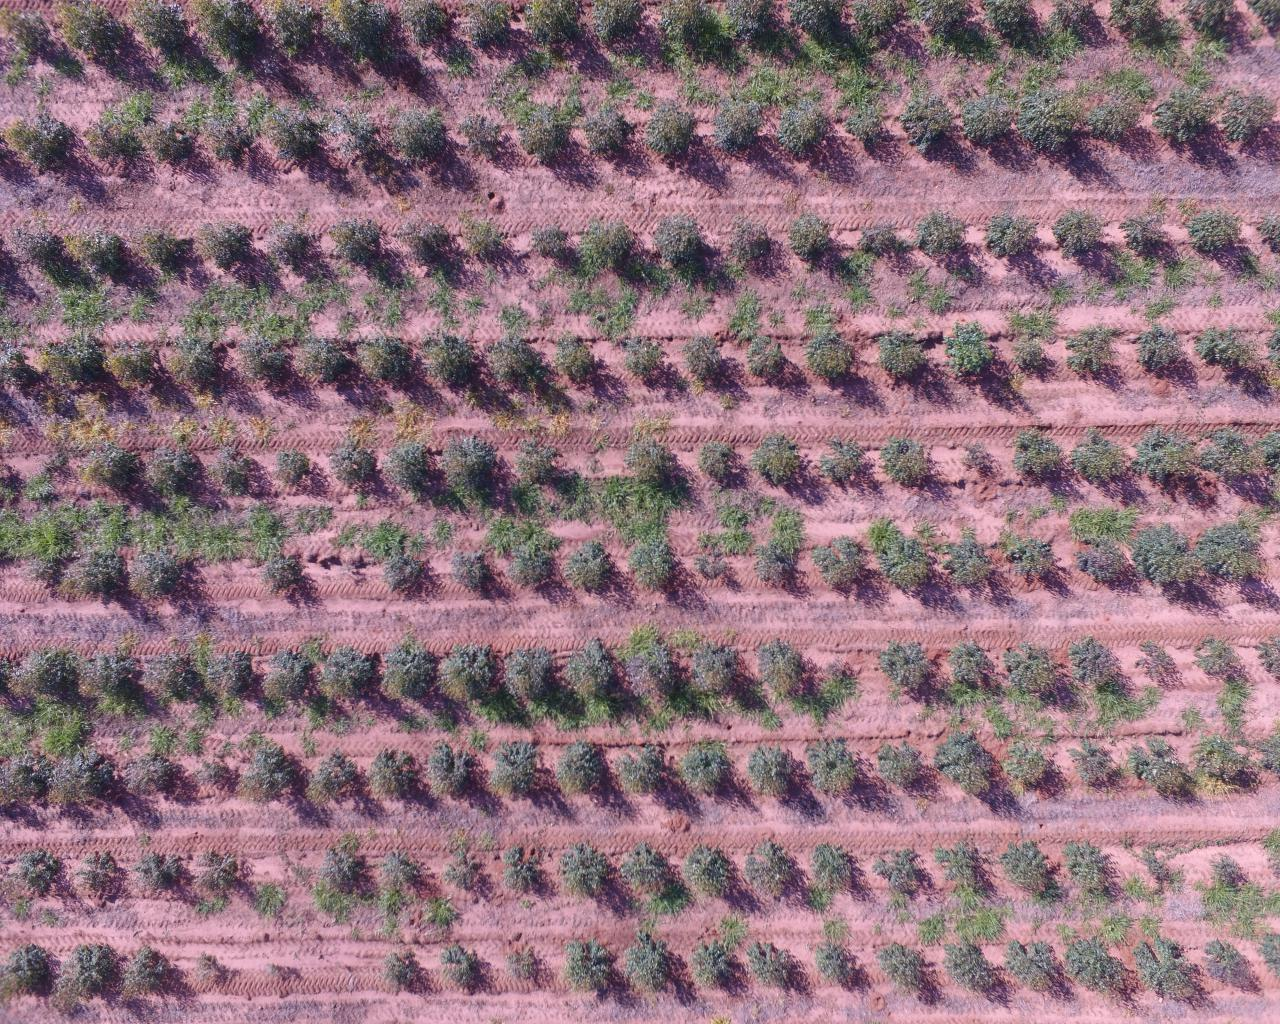Tree: (9, 119, 90, 189), (1158, 93, 1228, 167), (1134, 422, 1196, 498), (1201, 526, 1265, 598), (1136, 531, 1195, 608), (935, 730, 988, 816), (1136, 944, 1201, 1014), (648, 107, 708, 181), (743, 738, 804, 810), (1027, 93, 1078, 177), (813, 537, 875, 606), (398, 115, 458, 186), (961, 96, 1019, 169), (676, 751, 739, 817), (585, 112, 646, 180), (804, 737, 861, 808), (1067, 939, 1130, 1004), (1128, 742, 1194, 802), (625, 933, 685, 999), (613, 741, 671, 810), (491, 740, 548, 809), (741, 840, 801, 904), (1204, 421, 1252, 499), (877, 942, 936, 1005), (781, 104, 831, 179), (950, 541, 1006, 607), (51, 945, 117, 1001), (719, 100, 771, 171), (563, 939, 622, 1002), (881, 438, 942, 496), (137, 555, 201, 611), (565, 542, 623, 604), (879, 330, 928, 402), (559, 738, 609, 808), (944, 323, 997, 389), (370, 749, 422, 816), (521, 120, 580, 180), (116, 947, 179, 1002), (427, 741, 474, 814), (1017, 541, 1071, 604), (1227, 95, 1279, 160), (1072, 430, 1130, 489), (1076, 540, 1134, 598), (747, 940, 806, 997), (947, 944, 1001, 1004), (1004, 940, 1062, 997), (631, 545, 684, 606), (1094, 108, 1151, 163), (902, 100, 951, 165), (888, 546, 934, 615), (461, 114, 516, 170), (819, 434, 874, 491), (559, 841, 608, 904), (809, 331, 858, 392), (1001, 744, 1055, 798), (1205, 940, 1258, 996), (303, 760, 359, 812), (878, 738, 926, 798), (682, 844, 740, 894), (245, 757, 297, 811), (1013, 426, 1063, 483), (653, 213, 712, 261), (1069, 335, 1120, 390), (815, 945, 871, 994), (1194, 326, 1257, 370), (0, 765, 44, 828), (751, 435, 804, 487), (509, 551, 559, 605), (0, 946, 49, 1000), (746, 338, 789, 399), (884, 638, 936, 689), (448, 550, 497, 603), (759, 549, 807, 603), (1142, 329, 1189, 385), (265, 555, 315, 607), (694, 555, 743, 606), (440, 942, 489, 994), (331, 652, 379, 704), (691, 944, 739, 996), (10, 655, 75, 694), (757, 638, 802, 693), (850, 110, 894, 165), (59, 765, 122, 804), (1197, 739, 1255, 782), (789, 211, 833, 266), (398, 219, 450, 265), (1004, 643, 1058, 686), (869, 844, 925, 887), (445, 435, 494, 483), (439, 645, 488, 693), (385, 655, 430, 706), (620, 840, 671, 886), (362, 340, 419, 380), (1000, 844, 1055, 886), (383, 949, 427, 1001), (1069, 638, 1122, 681), (332, 219, 379, 267), (1055, 210, 1103, 257), (1064, 840, 1113, 886), (986, 211, 1037, 256), (425, 336, 475, 381), (86, 556, 130, 607), (338, 116, 385, 162), (130, 760, 184, 799), (811, 841, 860, 885), (502, 946, 552, 988), (1137, 636, 1182, 683), (274, 223, 315, 274), (727, 217, 775, 260), (916, 213, 964, 256), (84, 655, 133, 697), (553, 335, 598, 380), (567, 647, 612, 692), (79, 854, 124, 899), (505, 651, 553, 693), (629, 442, 678, 483), (85, 232, 130, 276), (260, 653, 305, 697), (16, 851, 60, 894), (155, 448, 196, 494), (192, 759, 234, 805), (296, 341, 344, 380), (137, 852, 186, 890), (331, 445, 377, 486), (95, 130, 146, 166), (490, 342, 541, 378), (148, 661, 197, 699), (153, 126, 196, 168), (960, 441, 1001, 486), (389, 557, 430, 600), (503, 848, 544, 891), (936, 841, 981, 881), (700, 440, 745, 479), (200, 851, 245, 889), (441, 856, 489, 891), (278, 118, 320, 159), (623, 338, 665, 378), (698, 648, 738, 691), (1125, 215, 1169, 254), (205, 226, 255, 259), (385, 850, 427, 888), (517, 440, 561, 478), (948, 643, 993, 679), (15, 231, 67, 262), (683, 334, 721, 376), (1195, 213, 1238, 250), (383, 447, 426, 483), (1200, 637, 1243, 672), (1073, 745, 1112, 784), (589, 219, 630, 256), (113, 353, 156, 388), (174, 348, 218, 381), (245, 344, 284, 379), (95, 450, 136, 485), (324, 850, 360, 887), (470, 226, 508, 261), (218, 129, 256, 164), (631, 656, 671, 690), (278, 449, 311, 487), (531, 227, 567, 258), (149, 234, 189, 262), (856, 223, 895, 250), (1213, 851, 1243, 886), (1015, 338, 1045, 372), (216, 451, 252, 481), (216, 657, 246, 689), (1259, 213, 1280, 254)
